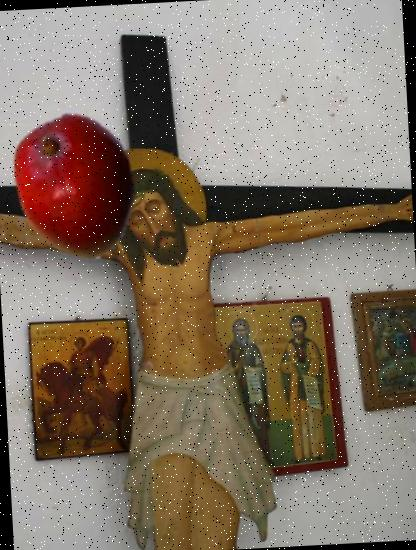Mango: (0, 108, 155, 266)
